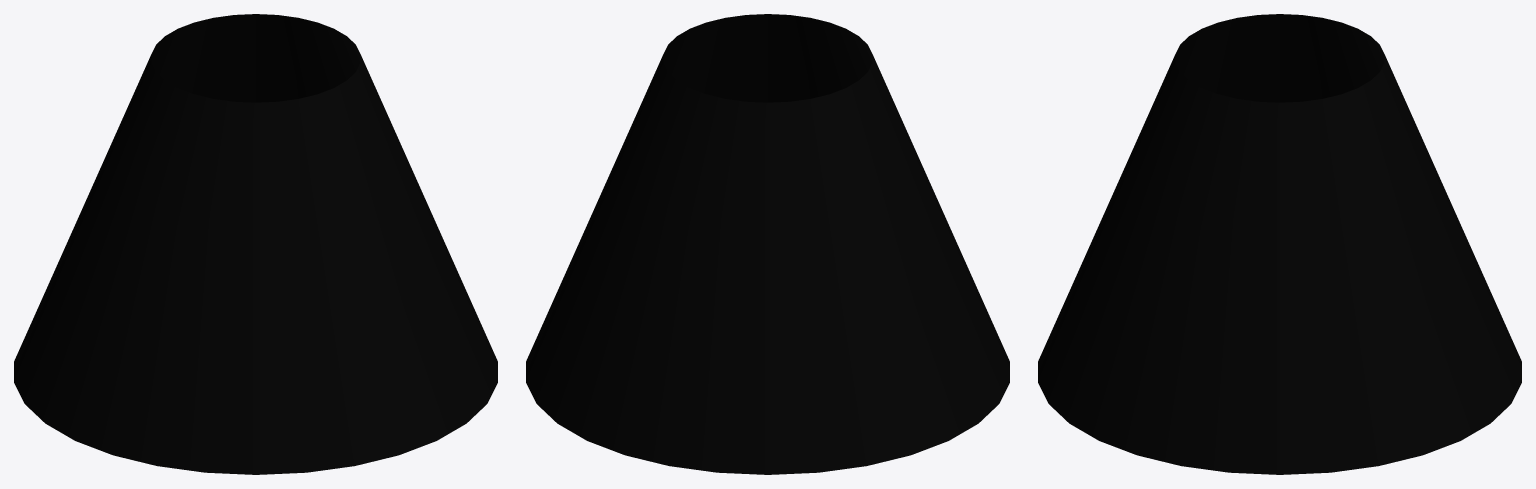
The model's file is wall.fbx.
3 renders of one model, left to right at view 1: azimuth 30°, elevation 25°; view 2: azimuth 150°, elevation 25°; view 3: azimuth 270°, elevation 25°, orthographic.
Visible parts, largest first — view 1: pCylinder3; view 2: pCylinder3; view 3: pCylinder3.
Part boxes in pixels (box(x1,y1,x2,y2)): pCylinder3: box(14, 14, 497, 474); pCylinder3: box(526, 14, 1009, 474); pCylinder3: box(1038, 14, 1521, 474).
Size of the model in its own units: 11.37 by 8.09 by 11.31.
